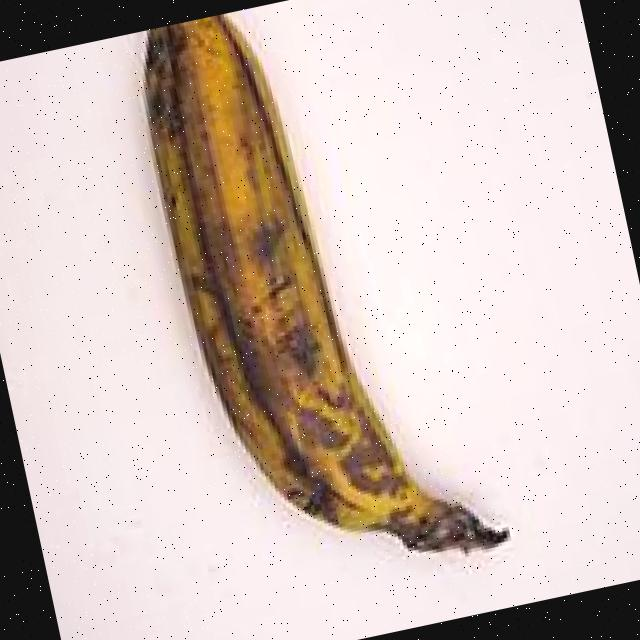Overripe: (75, 0, 530, 634)
